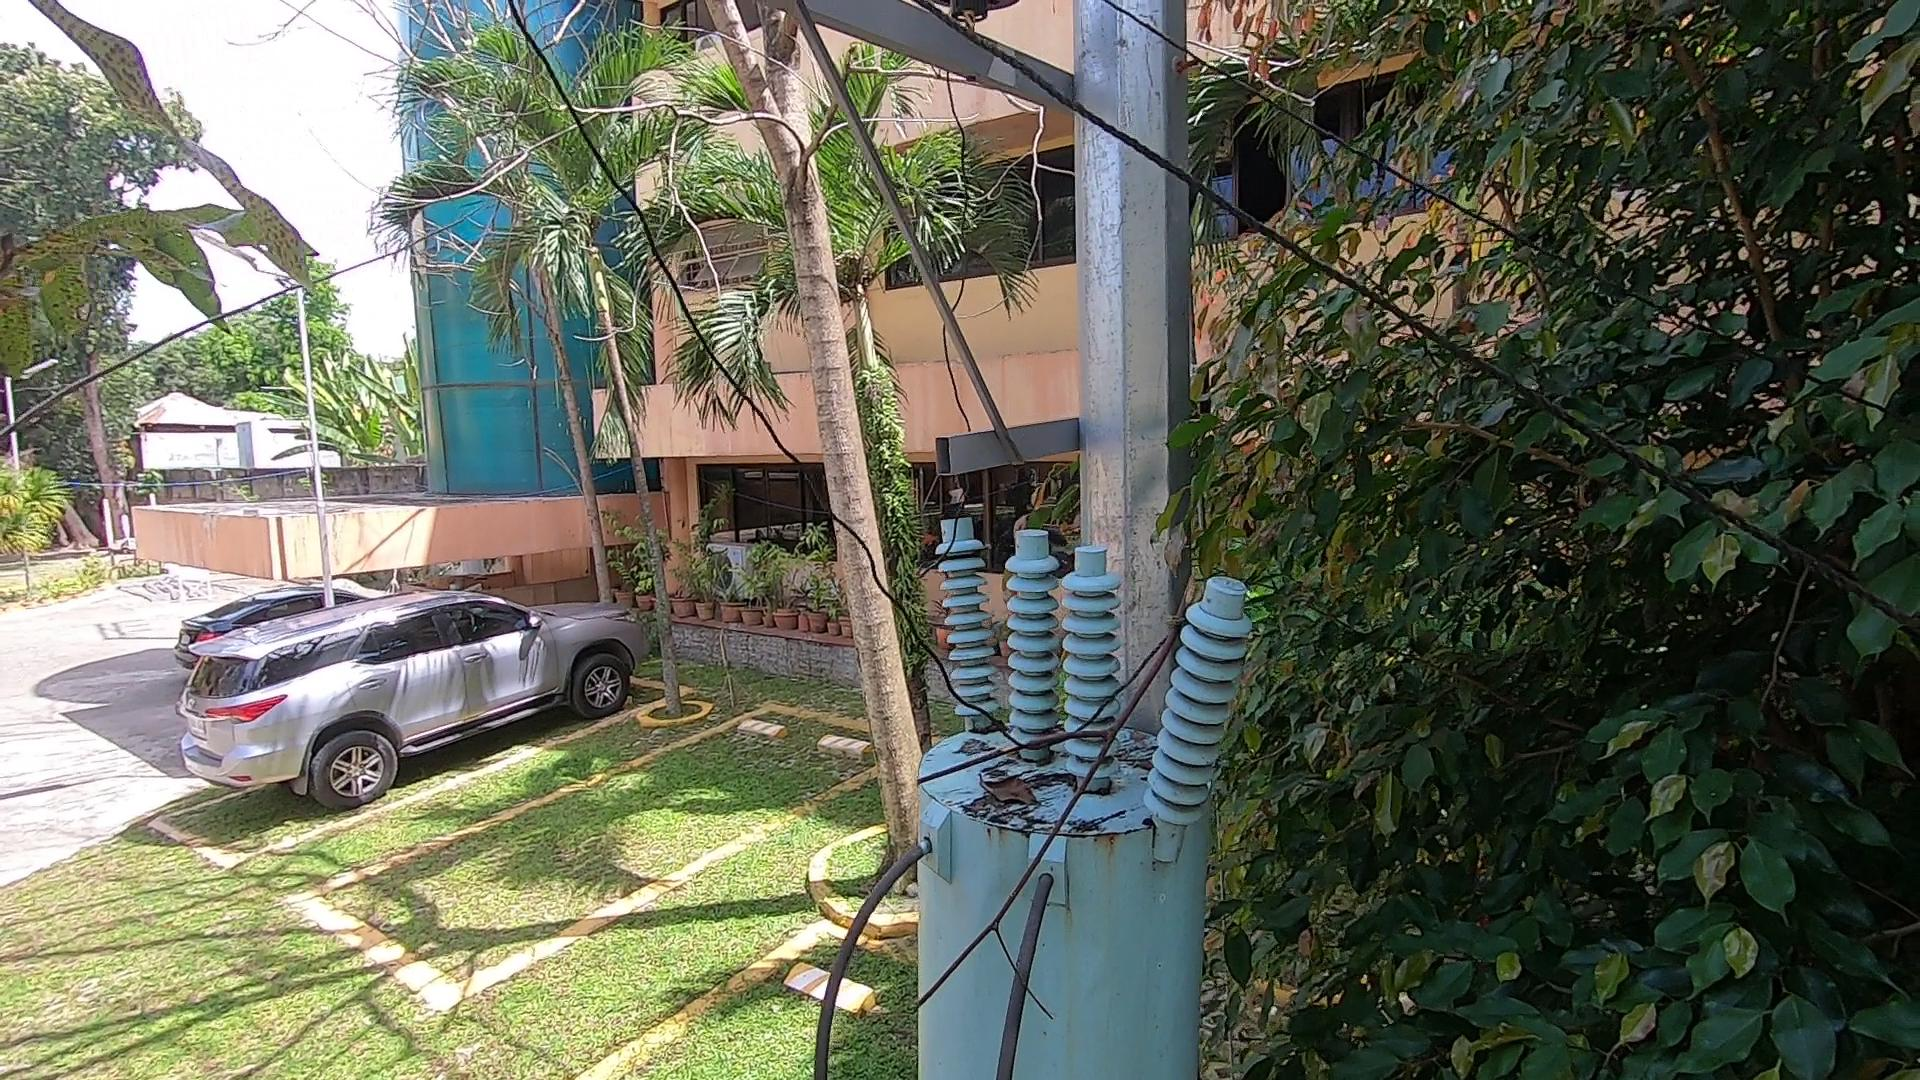leaf: (967, 757, 1044, 812)
tree branch: (886, 556, 1192, 1023)
